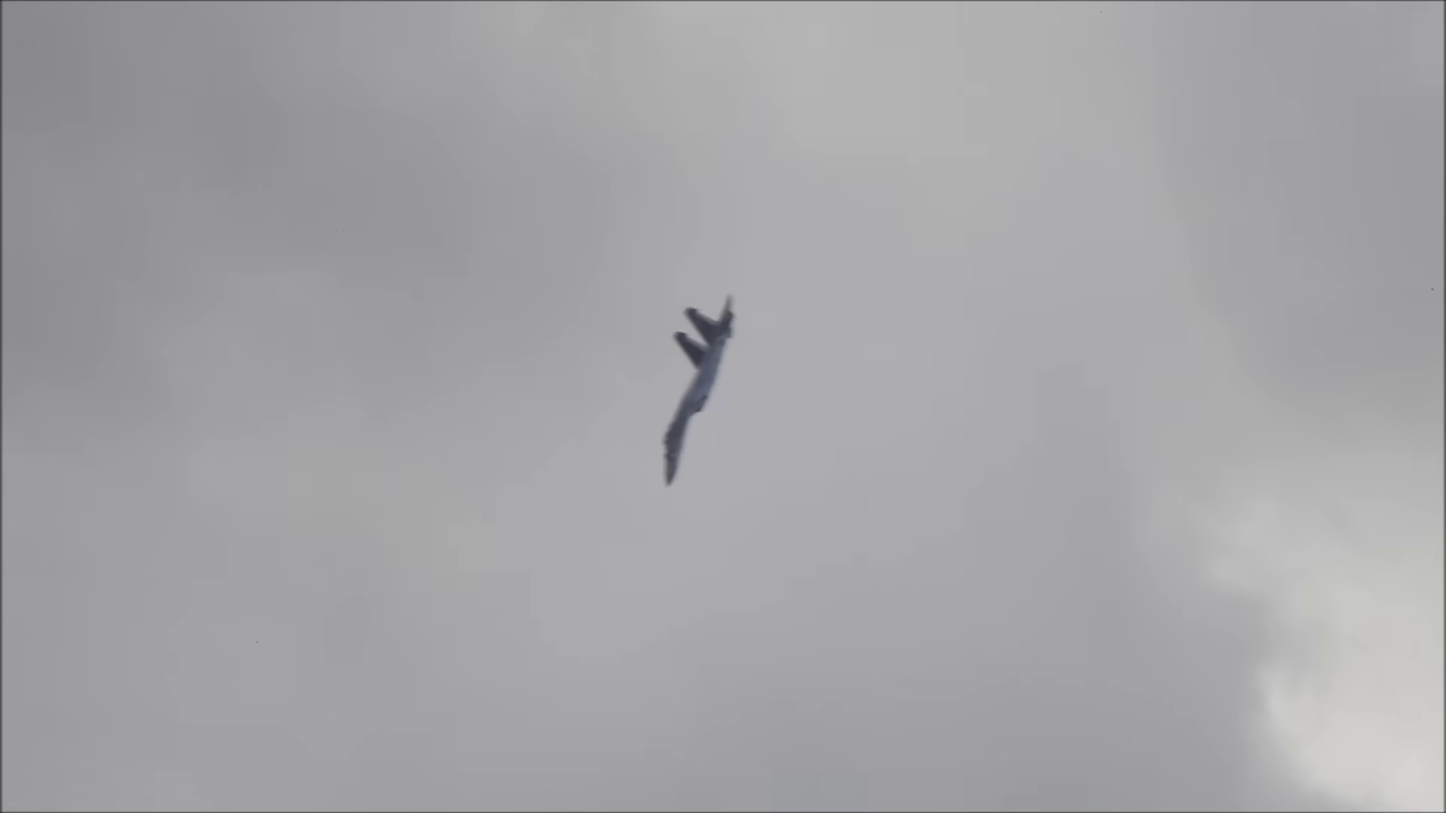Su35: (648, 291, 744, 499)
